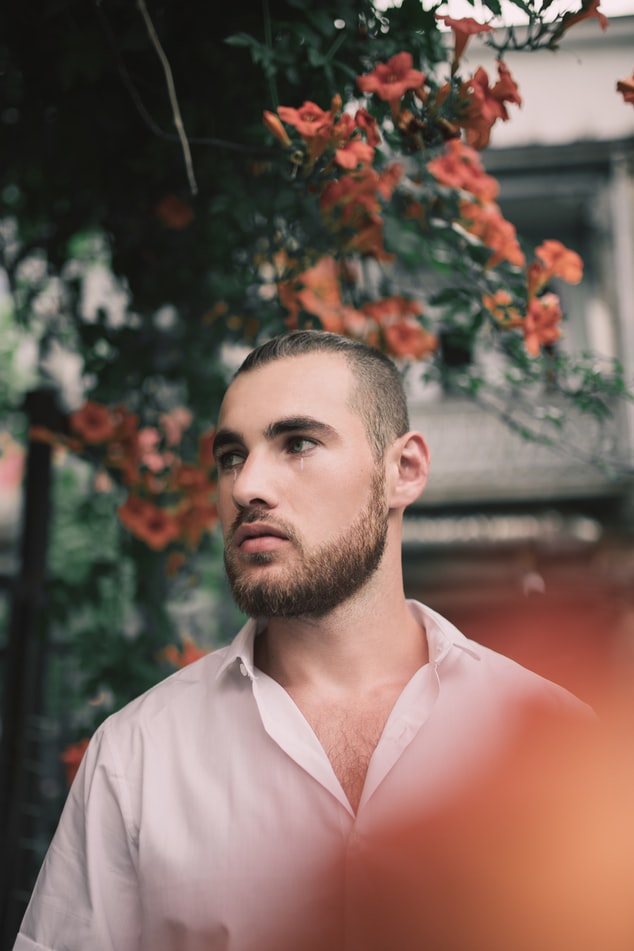beard: (221, 513, 395, 619)
